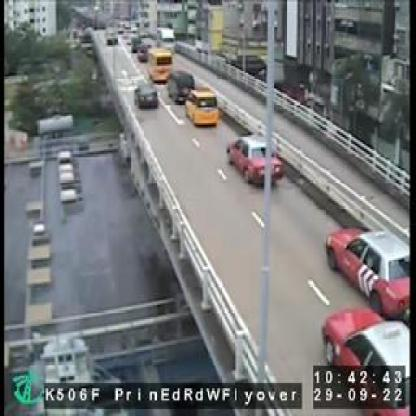Bus: (147, 45, 173, 80)
Car: (316, 203, 415, 319), (318, 304, 414, 413), (221, 128, 282, 191), (186, 85, 218, 125), (164, 68, 195, 102), (134, 85, 157, 113)
